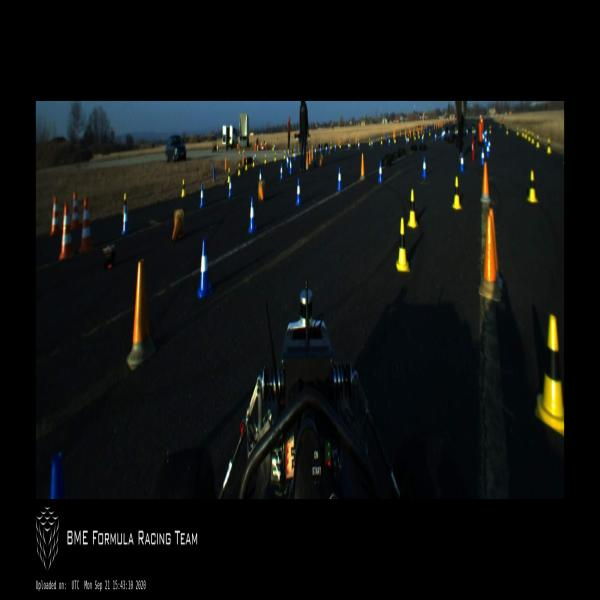blue_cone: (197, 238, 212, 300), (50, 454, 66, 498), (248, 196, 257, 234), (122, 206, 130, 238), (295, 178, 302, 206), (199, 185, 205, 209), (422, 156, 428, 179), (337, 168, 343, 190), (228, 177, 234, 198), (378, 162, 383, 184), (480, 148, 485, 166), (460, 153, 464, 173), (280, 163, 284, 180), (486, 144, 490, 160), (289, 159, 293, 174), (258, 168, 262, 180), (334, 142, 337, 153), (434, 132, 437, 142), (314, 147, 317, 157), (286, 152, 288, 166), (421, 134, 424, 142), (325, 145, 327, 156), (294, 150, 296, 161), (287, 157, 289, 168), (466, 127, 468, 137), (448, 128, 450, 138), (388, 136, 390, 146), (371, 138, 373, 148), (358, 141, 360, 150), (348, 140, 349, 150), (329, 144, 330, 154), (406, 137, 407, 146)
large_orange_cone: (79, 197, 94, 254), (60, 201, 74, 262), (50, 195, 60, 238), (70, 192, 80, 229)
unknown_cone: (127, 256, 156, 373), (479, 217, 503, 306), (486, 206, 503, 292), (171, 208, 186, 244), (479, 161, 492, 200), (258, 179, 266, 202), (360, 152, 366, 178), (305, 152, 309, 170), (212, 164, 216, 182), (308, 148, 311, 164), (311, 146, 313, 160), (225, 157, 227, 171), (373, 134, 376, 142), (404, 128, 406, 140), (393, 129, 395, 141), (242, 154, 244, 165), (355, 136, 357, 144), (386, 132, 387, 140)
yellow_cone: (535, 316, 564, 437), (395, 218, 411, 272), (406, 188, 418, 229), (527, 170, 538, 204), (452, 176, 462, 210), (546, 136, 552, 155), (122, 190, 128, 209), (181, 179, 186, 197), (227, 167, 231, 183), (536, 134, 540, 149), (252, 157, 256, 169), (505, 124, 509, 136), (524, 129, 528, 139), (238, 163, 241, 176), (488, 123, 491, 136), (380, 133, 383, 145), (245, 159, 248, 170), (516, 125, 519, 136), (471, 125, 474, 135), (521, 128, 524, 137), (532, 131, 534, 144), (528, 130, 530, 141), (264, 153, 266, 164), (274, 151, 276, 162), (284, 150, 286, 159), (394, 136, 396, 144), (339, 140, 341, 148), (330, 142, 332, 150), (429, 129, 431, 136), (369, 138, 370, 146), (293, 149, 294, 157), (349, 139, 350, 147)
